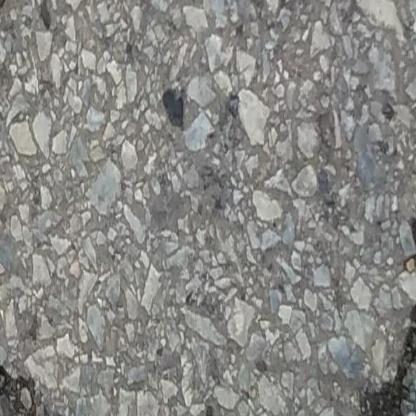Cracks: (355, 130, 416, 416), (0, 328, 44, 416), (0, 0, 15, 44)
